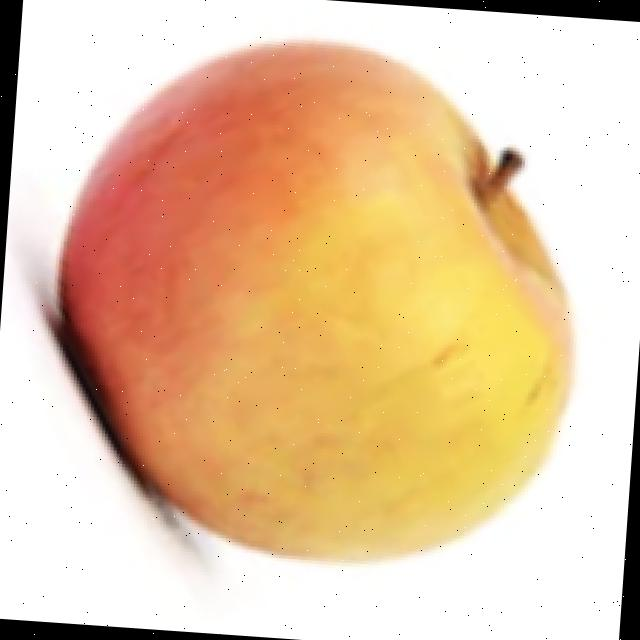apple: (7, 30, 583, 600)
